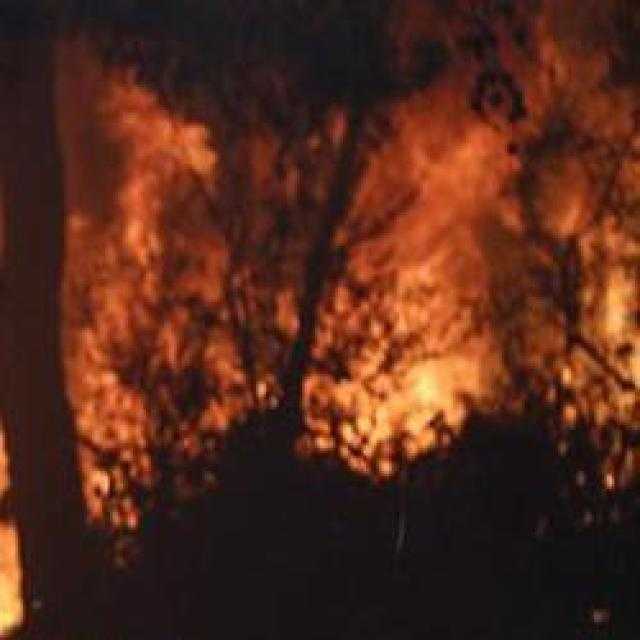Fire: (338, 356, 468, 454)
